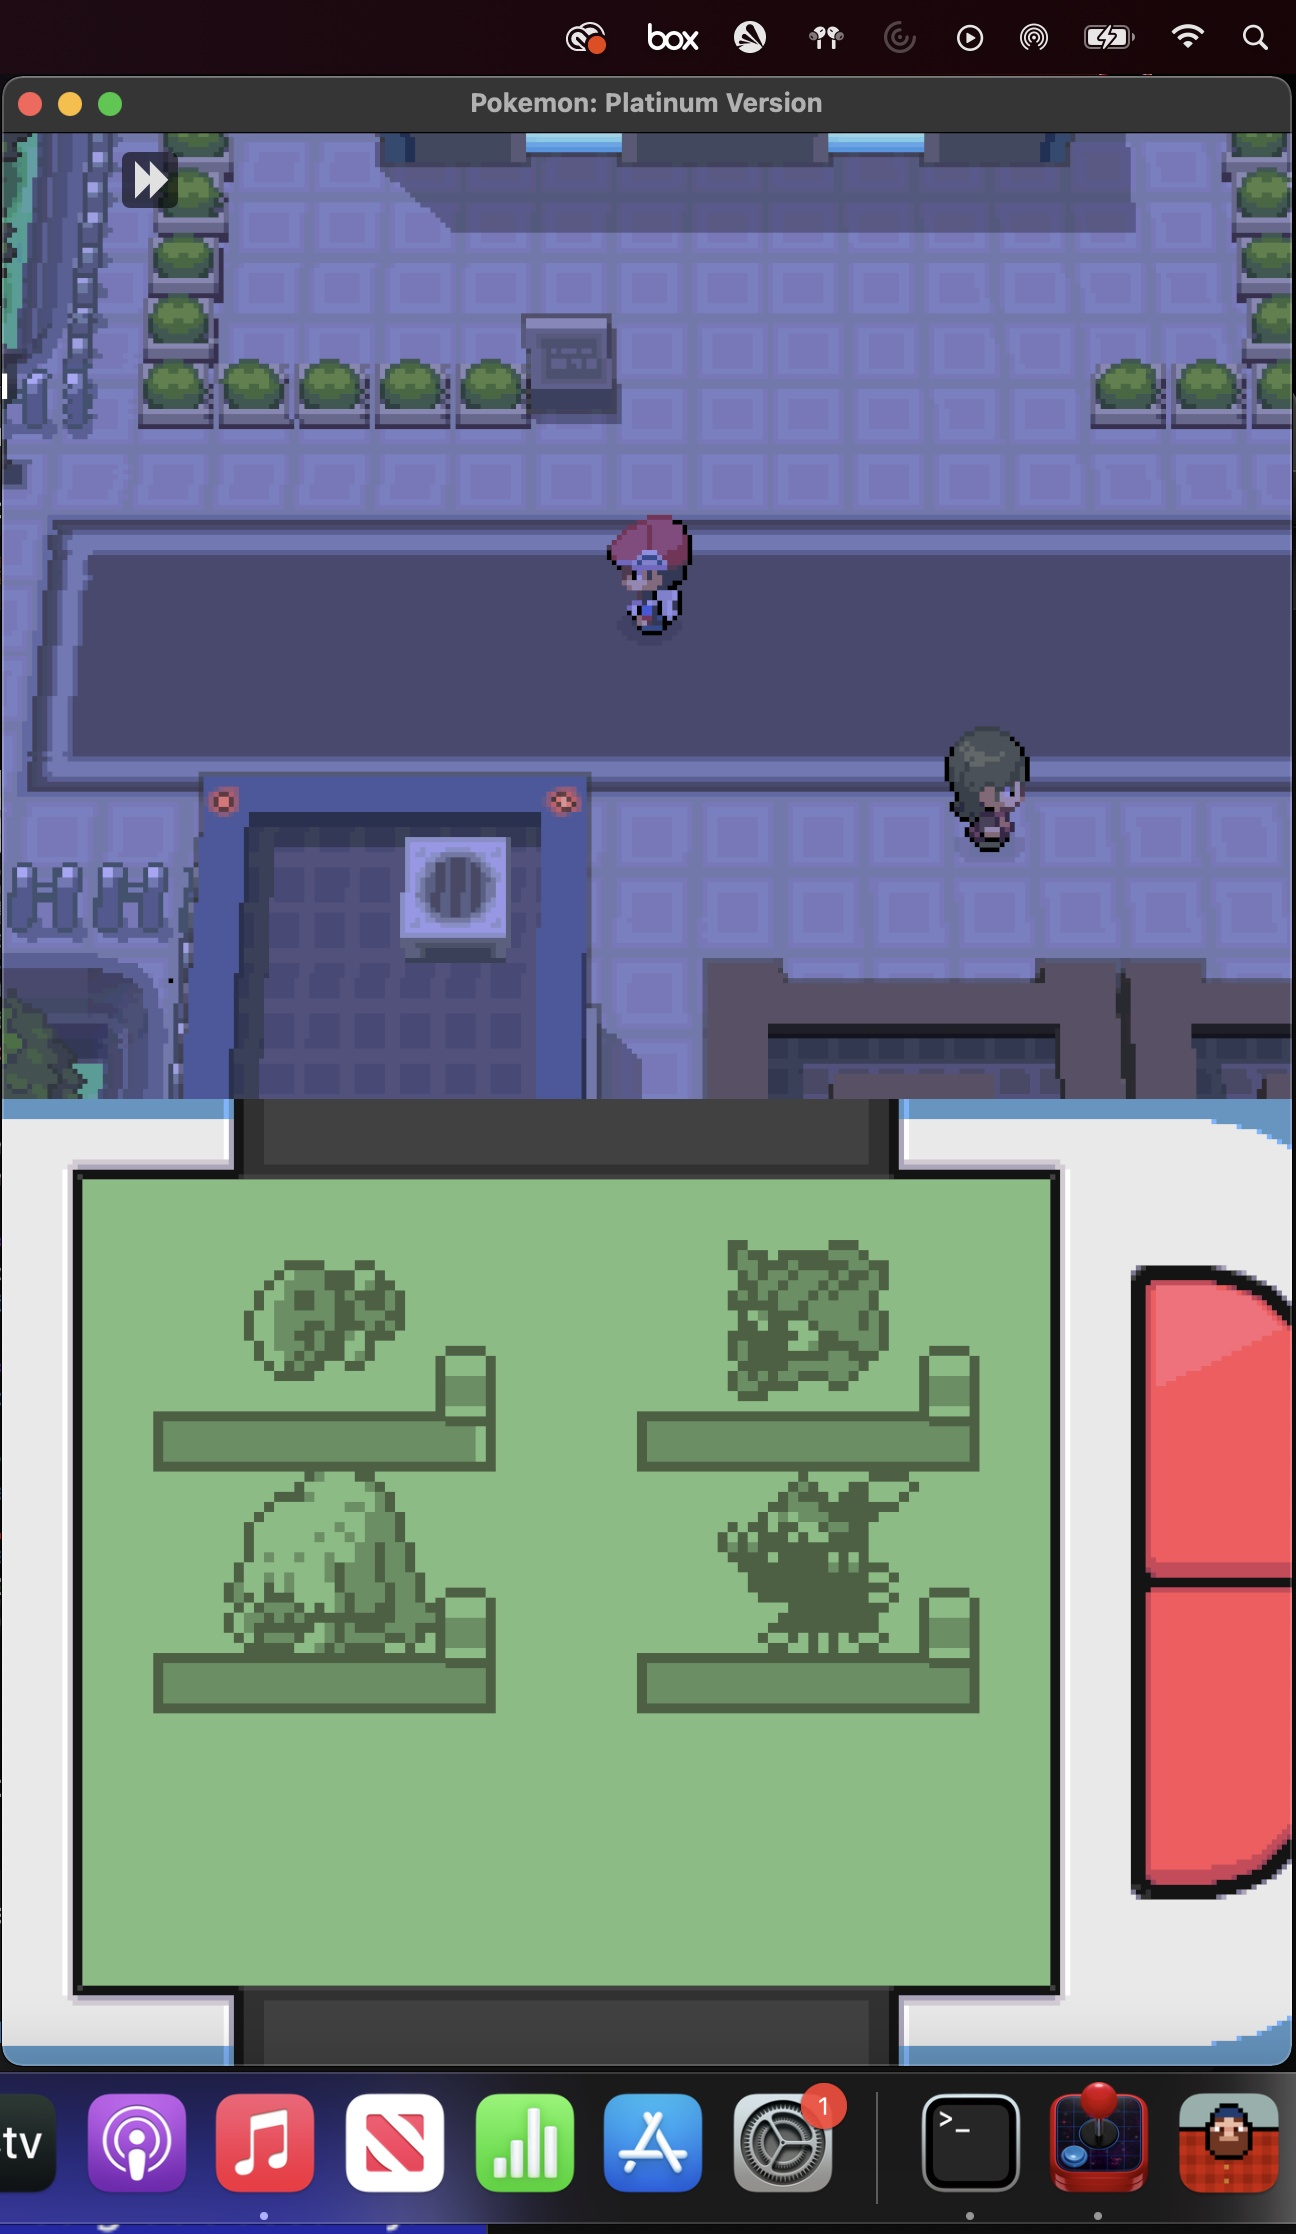player: (582, 502, 706, 643)
